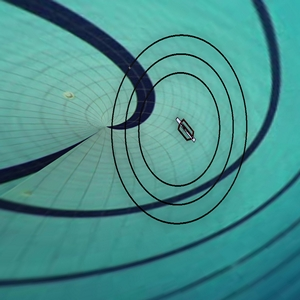circle: (105, 29, 257, 230)
submarine: (167, 106, 204, 151)
